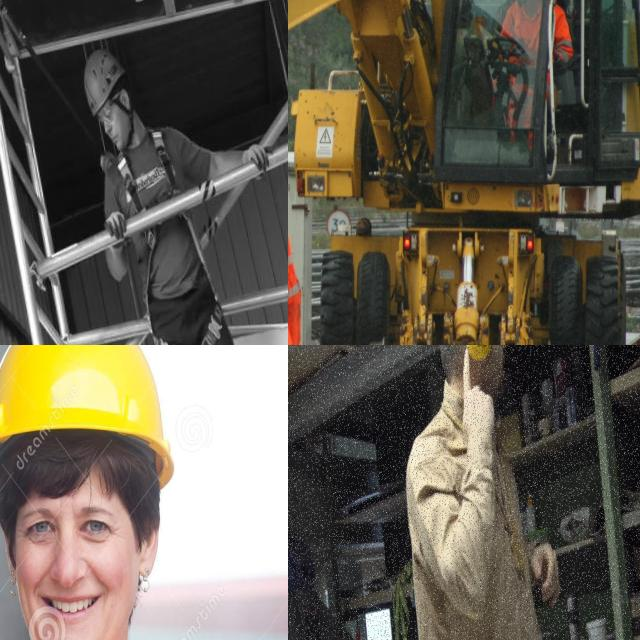Ear-protection: (458, 345, 498, 371)
Harness: (111, 131, 175, 210)
No_Glasses: (20, 493, 130, 559)
face_nomask: (0, 488, 154, 640), (514, 0, 532, 6)
head_helmet: (0, 345, 184, 460)
person: (0, 345, 288, 640), (502, 0, 575, 76)
vest: (288, 196, 300, 304)
